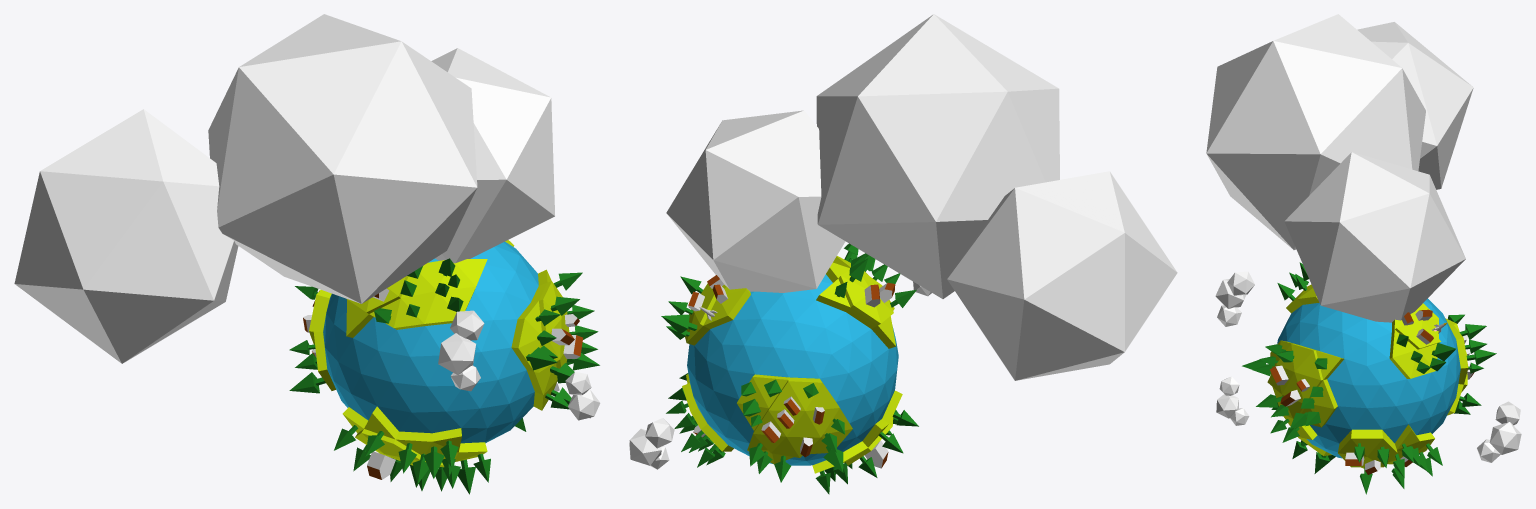
File: planet3.glb
3 views of the same model, side by side, from view 1: azimuth 30°, elevation 25°; view 2: azimuth 150°, elevation 25°; view 3: azimuth 270°, elevation 25° (orthographic). The views are drawn at different scales.
Parts seen in each view (by area): view 1: cloud2, water, land, trees, cloud1, house, cloud4; view 2: cloud2, water, land, trees, house, cloud3; view 3: cloud2, water, land, trees, house, cloud3, cloud1, cloud4.
Boxes of the visible parts, x1=… form: cloud2: x1=14, y1=14, x2=554, y2=363; water: x1=323, y1=241, x2=538, y2=443; land: x1=309, y1=240, x2=569, y2=467; trees: x1=289, y1=258, x2=599, y2=494; cloud1: x1=438, y1=310, x2=484, y2=391; house: x1=303, y1=288, x2=582, y2=479; cloud4: x1=565, y1=372, x2=600, y2=420; cloud2: x1=666, y1=14, x2=1177, y2=380; water: x1=687, y1=274, x2=898, y2=465; land: x1=682, y1=256, x2=902, y2=473; trees: x1=661, y1=243, x2=918, y2=494; house: x1=688, y1=275, x2=895, y2=468; cloud3: x1=629, y1=418, x2=674, y2=469; cloud2: x1=1206, y1=14, x2=1473, y2=322; water: x1=1277, y1=298, x2=1460, y2=458; land: x1=1267, y1=284, x2=1468, y2=468; trees: x1=1242, y1=262, x2=1496, y2=494; house: x1=1270, y1=309, x2=1474, y2=474; cloud3: x1=1477, y1=401, x2=1521, y2=462; cloud1: x1=1215, y1=271, x2=1254, y2=326; cloud4: x1=1216, y1=376, x2=1249, y2=425.
Bounding box in the file's own units: 5.23 × 4.72 × 3.4.
